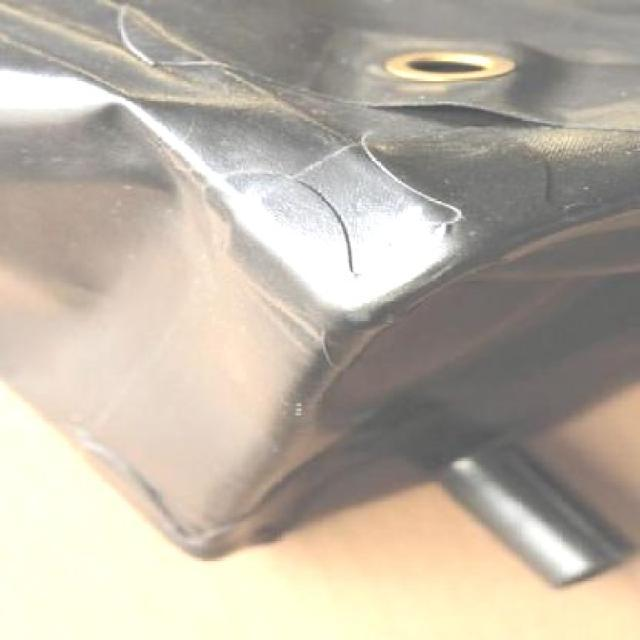crack: (317, 196, 372, 298)
